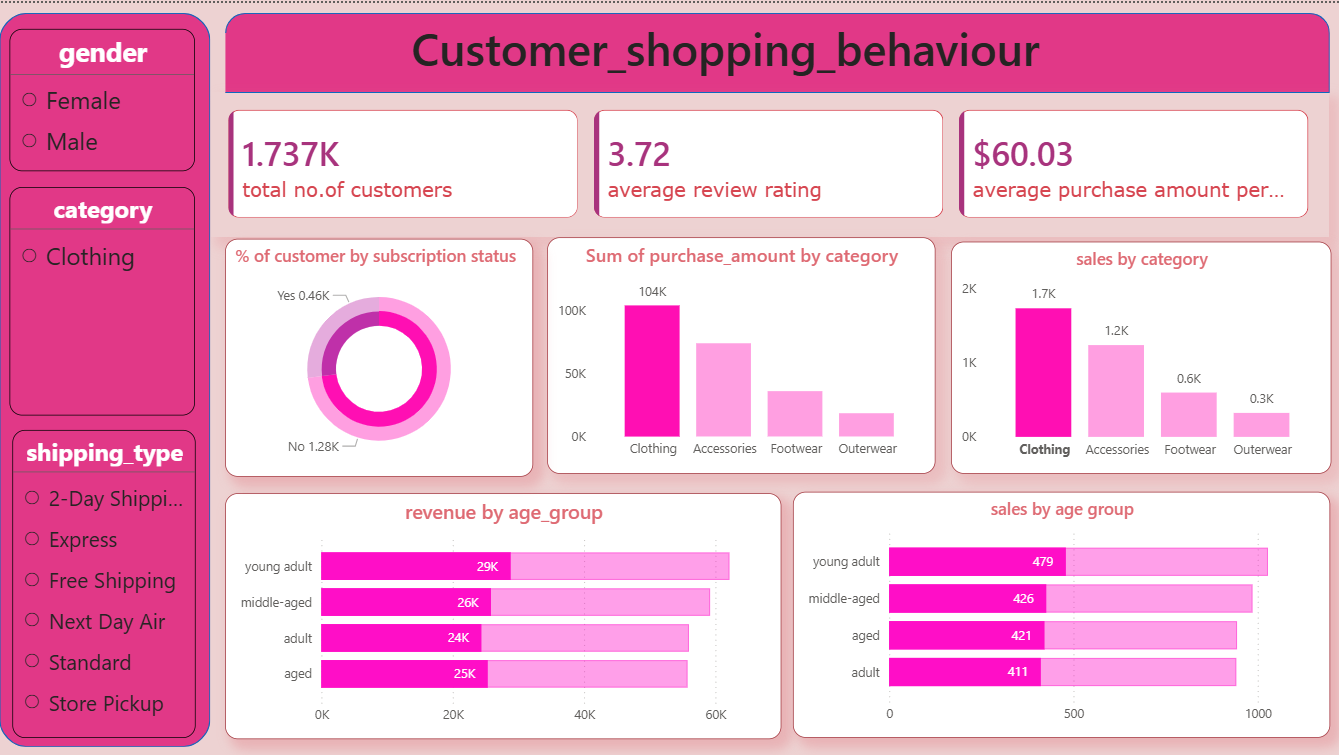

The dashboard page shown, as its layout file describes it:
{"tool":"powerbi","page":{"name":"Page 1","canvas":[1280,720],"ordinal":0},"visuals":[{"type":"shape","box":[216.4,9.1,1052.8,76.2],"z":0},{"type":"cardVisual","fields":{"Data":["new measures.total no.of customers","new measures.average review rating","new measures.average purchase amount per order"]},"box":[202.7,85.6,1065.8,137.6],"z":1000},{"type":"barChart","title":"revenue  by age_group","fields":{"Category":["customer_shopping_behavior mytable.age_group"],"Y":["Sum(customer_shopping_behavior mytable.purchase_amount)"]},"box":[215.8,466.9,530.1,234.4],"z":2000},{"type":"textbox","box":[388.7,9.3,835.1,76.3],"z":3000},{"type":"shape","box":[1.9,9.3,200.9,699.4],"z":4000},{"type":"listSlicer","fields":{"Values":["customer_shopping_behavior mytable.gender"]},"box":[11.2,24.2,176.7,135.8],"z":5000},{"type":"listSlicer","fields":{"Values":["customer_shopping_behavior mytable.category"]},"box":[11.2,174.8,176.7,217.6],"z":6000},{"type":"clusteredColumnChart","fields":{"Category":["customer_shopping_behavior mytable.category"],"Y":["Sum(customer_shopping_behavior mytable.purchase_amount)"]},"box":[522.7,223.2,370.1,225.1],"z":7000},{"type":"clusteredColumnChart","title":"sales by category","fields":{"Category":["customer_shopping_behavior mytable.category"],"Y":["new measures.total no.of customers"]},"box":[907.7,226.9,362.7,221.3],"z":8000},{"type":"barChart","title":"sales by age group","fields":{"Category":["customer_shopping_behavior mytable.age_group"],"Y":["new measures.total no.of customers"]},"box":[757.2,466.2,511.9,234.6],"z":9000},{"type":"listSlicer","fields":{"Values":["customer_shopping_behavior mytable.shipping_type"]},"box":[13,407.3,174.8,293.9],"z":10000},{"type":"donutChart","title":"% of customer by subscription status","fields":{"Category":["customer_shopping_behavior mytable.subscription_status"],"Y":["CountNonNull(customer_shopping_behavior mytable.customer_id)"]},"box":[215.8,225.1,293.9,226.9],"z":11000}]}

Visuals, with their boxes in screenshot pixels (x1, y1, x2, y2), scaled from the page's 1280x720 canvas onto the 1339x755 screenshot:
shape: 226,10,1328,89
cardVisual - new measures.total no.of customers x new measures.average review rating: 212,90,1327,234
"revenue  by age_group" barChart: 226,490,780,735
textbox: 407,10,1280,90
shape: 2,10,212,743
listSlicer - customer_shopping_behavior mytable.gender: 12,25,197,168
listSlicer - customer_shopping_behavior mytable.category: 12,183,197,411
clusteredColumnChart - customer_shopping_behavior mytable.category x Sum(customer_shopping_behavior mytable.purchase_amount): 547,234,934,470
"sales by category" clusteredColumnChart: 950,238,1329,470
"sales by age group" barChart: 792,489,1328,735
listSlicer - customer_shopping_behavior mytable.shipping_type: 14,427,196,735
"% of customer by subscription status" donutChart: 226,236,533,474
